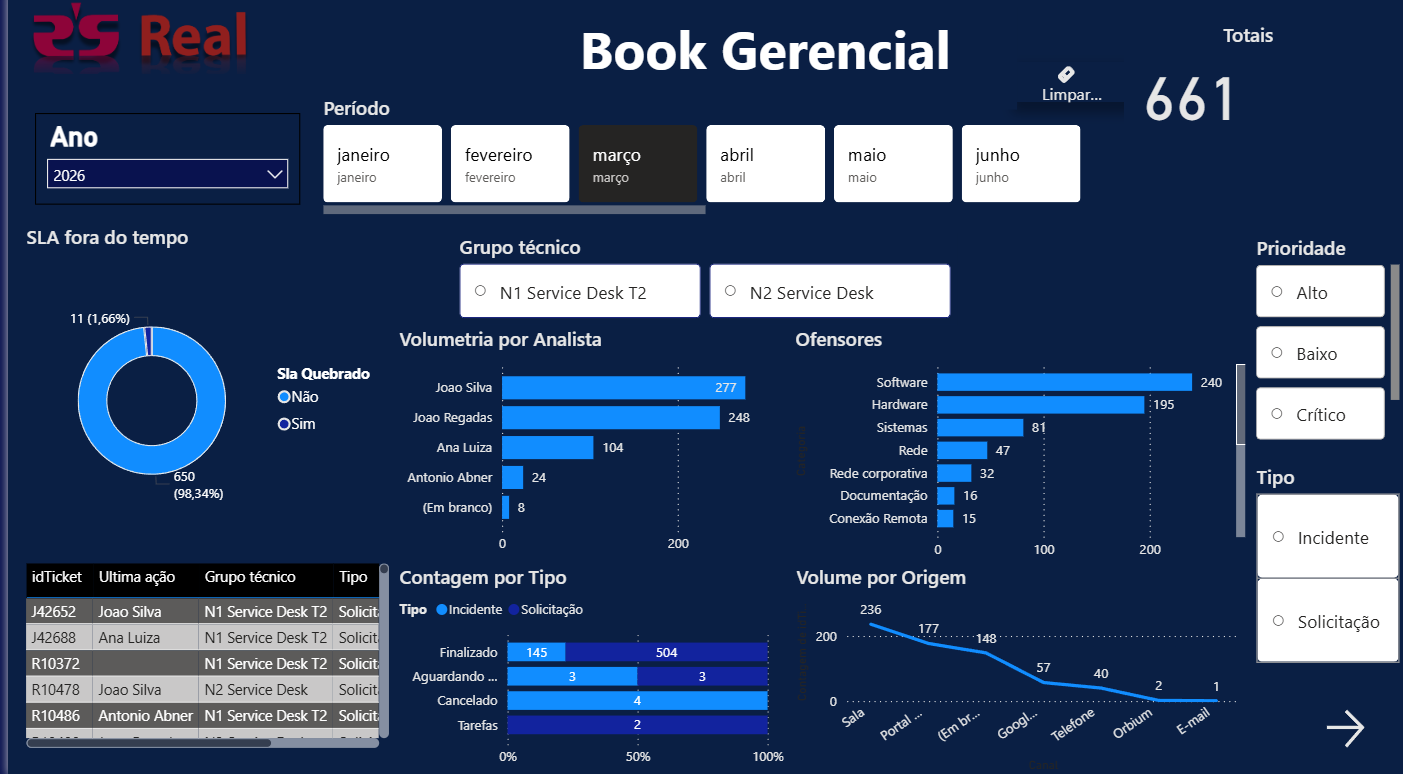

Layout of this report page (visuals, bound fields, positions):
{"tool":"powerbi","page":{"name":"Principal ","canvas":[1280,720],"ordinal":0},"visuals":[{"type":"advancedSlicerVisual","fields":{"Values":["export.Grupo técnico"]},"box":[408.6,222.9,461.4,84.3],"z":0},{"type":"tableEx","fields":{"Values":["export.idTicket","export.Ultima ação","export.Grupo técnico","export.Tipo","export.SLA"]},"box":[11.3,520.6,342.6,179],"z":1000},{"type":"advancedSlicerVisual","title":"Tipo","fields":{"Values":["export.Tipo"]},"box":[1138.4,433,141.6,189.1],"z":2000},{"type":"actionButton","box":[915.8,66.2,106.6,37.4],"z":3000},{"type":"donutChart","title":"SLA fora do tempo","fields":{"Category":["export.Sla Quebrado"],"Y":["CountNonNull(export.idTicket)"],"Series":["export.SLA"]},"box":[11.5,213.1,342.7,302.4],"z":4000},{"type":"cardVisual","title":"Totais","fields":{"Data":["CountNonNull(export.idTicket)"]},"box":[1022.4,28.8,227.5,110.9],"z":5000},{"type":"advancedSlicerVisual","fields":{"Values":["export.Prioridade"]},"box":[1138.4,223.6,141.6,195.1],"z":6000},{"type":"clusteredBarChart","title":"Volumetria por Analista","fields":{"Category":["export.Técnico"],"Y":["CountNonNull(export.Categoria)"]},"box":[353.3,306.7,363.3,218.3],"z":7000},{"type":"clusteredBarChart","title":"Ofensores","fields":{"Category":["export.Categoria"],"Y":["CountNonNull(export.Status)"]},"box":[716.7,306.7,421.7,223.3],"z":8000},{"type":"lineChart","title":"Volume por Origem","fields":{"Category":["export.Canal"],"Y":["CountNonNull(export.idTicket)"]},"box":[717.2,524.8,415.7,195.5],"z":9000},{"type":"textbox","box":[476.6,15.8,447.8,93.6],"z":10000},{"type":"actionButton","box":[1201.5,654.3,57.1,45.2],"z":11000},{"type":"advancedSlicerVisual","title":"Período","fields":{"Values":["export.Dt_cad.Variation.Hierarquia de datas.Mês"],"Label":["Min(export.Dt_cad.Variation.Hierarquia de datas.Mês)"]},"box":[283.6,94.8,710,117.9],"z":12000},{"type":"image","box":[0,0,240.8,94.7],"z":13000},{"type":"slicer","fields":{"Values":["export.Dt_cad.Variation.Hierarquia de datas.Ano1"]},"box":[24.5,112.3,243.4,83.5],"z":14000},{"type":"hundredPercentStackedBarChart","title":"Contagem por Tipo","fields":{"Category":["export.Status"],"Y":["CountNonNull(export.idTicket)"],"Series":["export.Tipo"]},"box":[353.9,524.8,362.2,195.5],"z":15000}]}

Visuals, with their boxes in screenshot pixels (x1, y1, x2, y2), scaled from the page's 1280x720 canvas onto the 1403x774 screenshot:
advancedSlicerVisual - export.Grupo técnico: bbox=[448, 240, 954, 330]
tableEx - export.idTicket x export.Ultima ação: bbox=[12, 560, 388, 752]
"Tipo" advancedSlicerVisual: bbox=[1248, 465, 1402, 669]
actionButton: bbox=[1004, 71, 1121, 111]
"SLA fora do tempo" donutChart: bbox=[13, 229, 388, 554]
"Totais" cardVisual: bbox=[1121, 31, 1370, 150]
advancedSlicerVisual - export.Prioridade: bbox=[1248, 240, 1402, 450]
"Volumetria por Analista" clusteredBarChart: bbox=[387, 330, 785, 564]
"Ofensores" clusteredBarChart: bbox=[786, 330, 1248, 570]
"Volume por Origem" lineChart: bbox=[786, 564, 1242, 773]
textbox: bbox=[522, 17, 1013, 118]
actionButton: bbox=[1317, 703, 1380, 752]
"Período" advancedSlicerVisual: bbox=[311, 102, 1089, 229]
image: bbox=[0, 0, 264, 102]
slicer - export.Dt_cad.Variation.Hierarquia de datas.Ano1: bbox=[27, 121, 294, 210]
"Contagem por Tipo" hundredPercentStackedBarChart: bbox=[388, 564, 785, 773]
